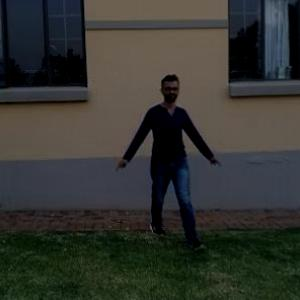land: (115, 77, 224, 242)
